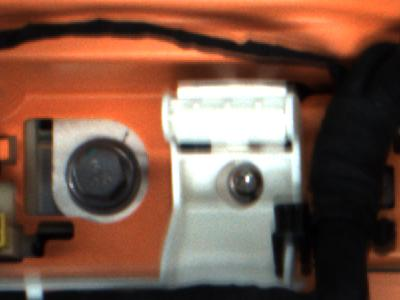nut_b: (62, 136, 151, 217)
